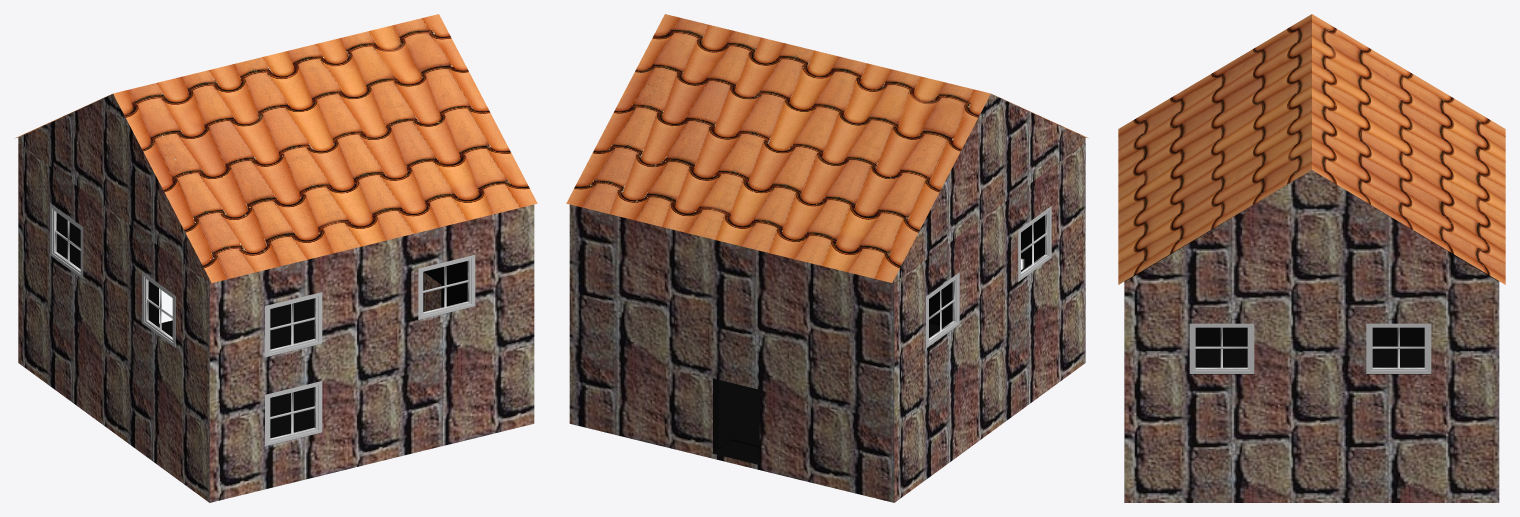
The model's file is house 2.2.2floor.fbx.
3 views of the same model, side by side, from view 1: azimuth 30°, elevation 25°; view 2: azimuth 150°, elevation 25°; view 3: azimuth 270°, elevation 25° (orthographic).
Parts seen in each view (by area): view 1: dom2floor.001, roof ogol.001, Window Frame Ac 1.018, Window Frame Ac 1.017, Window Frame Ac 1.019, Window Frame Ac 1.025, Window Frame Ac 1.010; view 2: dom2floor.001, roof ogol.001, Window Frame Ac 1.010, Window Frame Ac 1.025; view 3: dom2floor.001, roof ogol.001, Window Frame Ac 1.008, Window Frame Ac 1.011.
Part boxes in pixels (left/top/right/bottom): dom2floor.001: left=18, top=94, right=534, bottom=502; roof ogol.001: left=15, top=14, right=537, bottom=282; Window Frame Ac 1.018: left=265, top=292, right=322, bottom=357; Window Frame Ac 1.017: left=418, top=255, right=475, bottom=319; Window Frame Ac 1.019: left=265, top=381, right=322, bottom=446; Window Frame Ac 1.025: left=142, top=271, right=175, bottom=347; Window Frame Ac 1.010: left=50, top=203, right=83, bottom=278; dom2floor.001: left=569, top=94, right=1085, bottom=502; roof ogol.001: left=566, top=14, right=1088, bottom=282; Window Frame Ac 1.010: left=926, top=272, right=959, bottom=348; Window Frame Ac 1.025: left=1018, top=206, right=1051, bottom=281; dom2floor.001: left=1124, top=170, right=1499, bottom=502; roof ogol.001: left=1118, top=14, right=1505, bottom=284; Window Frame Ac 1.008: left=1366, top=323, right=1431, bottom=373; Window Frame Ac 1.011: left=1189, top=323, right=1254, bottom=373.
Size of the model in its own units: 2314 by 2304 by 2428.
